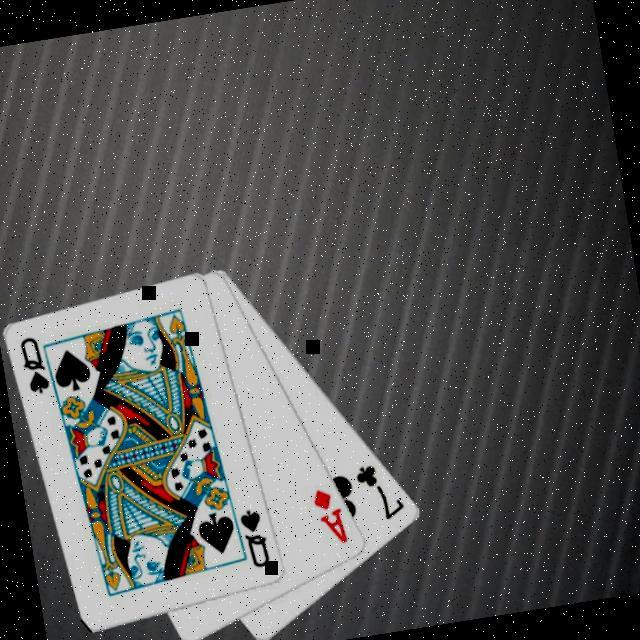7C: (351, 456, 410, 525)
AD: (309, 482, 352, 550)
QS: (14, 331, 54, 399), (235, 504, 273, 572)
